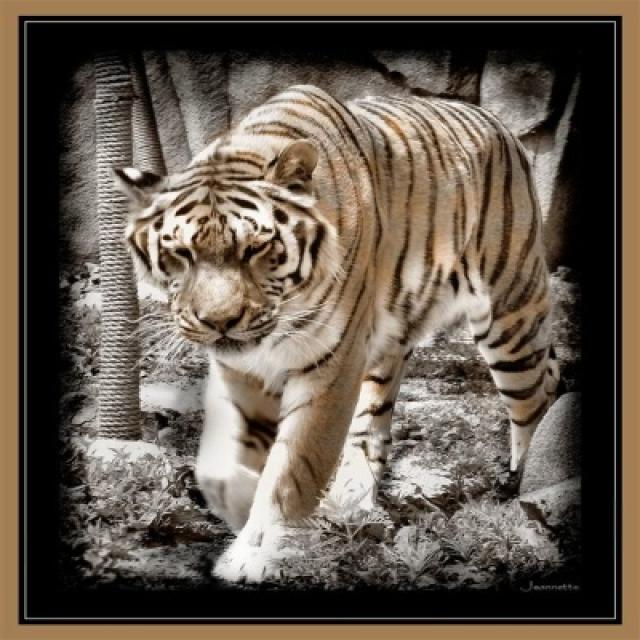Tiger: (114, 86, 549, 582)
